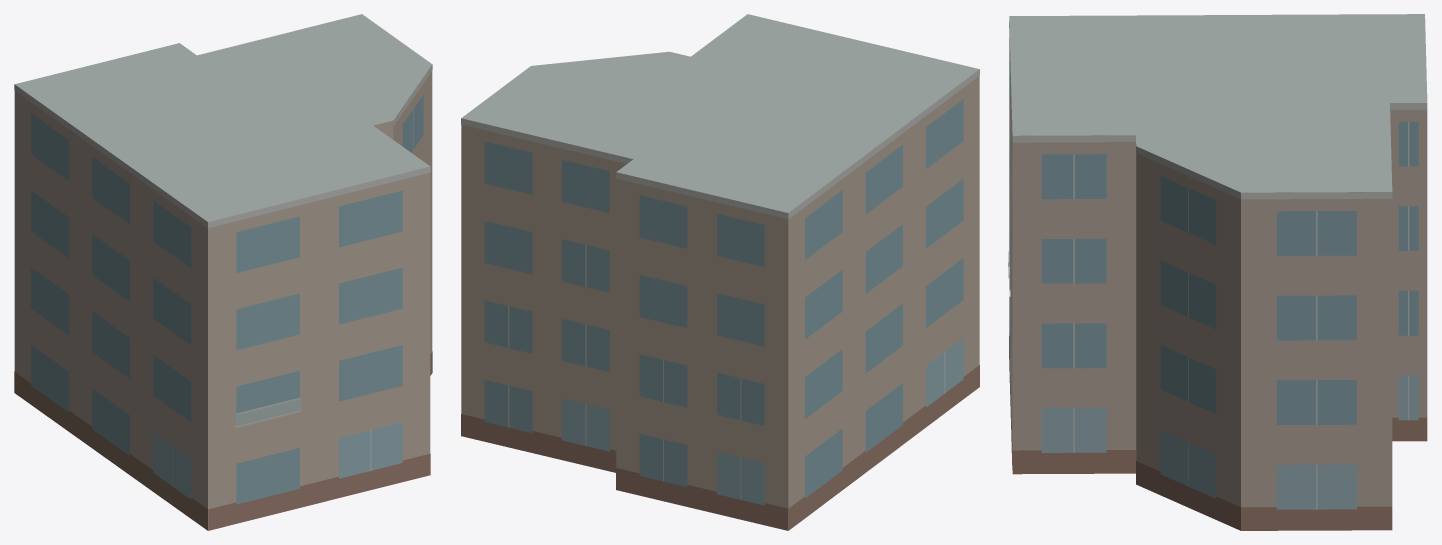
File: residential-4d646bac-1a9d-4b8e-beb7-e55df9c6a2b0.glb
The picture shows the model from 3 angles, left to right: view 1: azimuth 30°, elevation 25°; view 2: azimuth 150°, elevation 25°; view 3: azimuth 270°, elevation 25°; orthographic projection. The views are drawn at different scales.
Visible parts, largest first — view 1: residential-4d646bac-1a9d-4b8e-beb7-e55df9c6a2b0.tmp; view 2: residential-4d646bac-1a9d-4b8e-beb7-e55df9c6a2b0.tmp; view 3: residential-4d646bac-1a9d-4b8e-beb7-e55df9c6a2b0.tmp.
Boxes of the visible parts, x1=… form: residential-4d646bac-1a9d-4b8e-beb7-e55df9c6a2b0.tmp: x1=14, y1=14, x2=432, y2=530; residential-4d646bac-1a9d-4b8e-beb7-e55df9c6a2b0.tmp: x1=461, y1=14, x2=979, y2=530; residential-4d646bac-1a9d-4b8e-beb7-e55df9c6a2b0.tmp: x1=1008, y1=14, x2=1427, y2=530.
Bounding box in the file's own units: 13.82 × 12.2 × 13.7.
